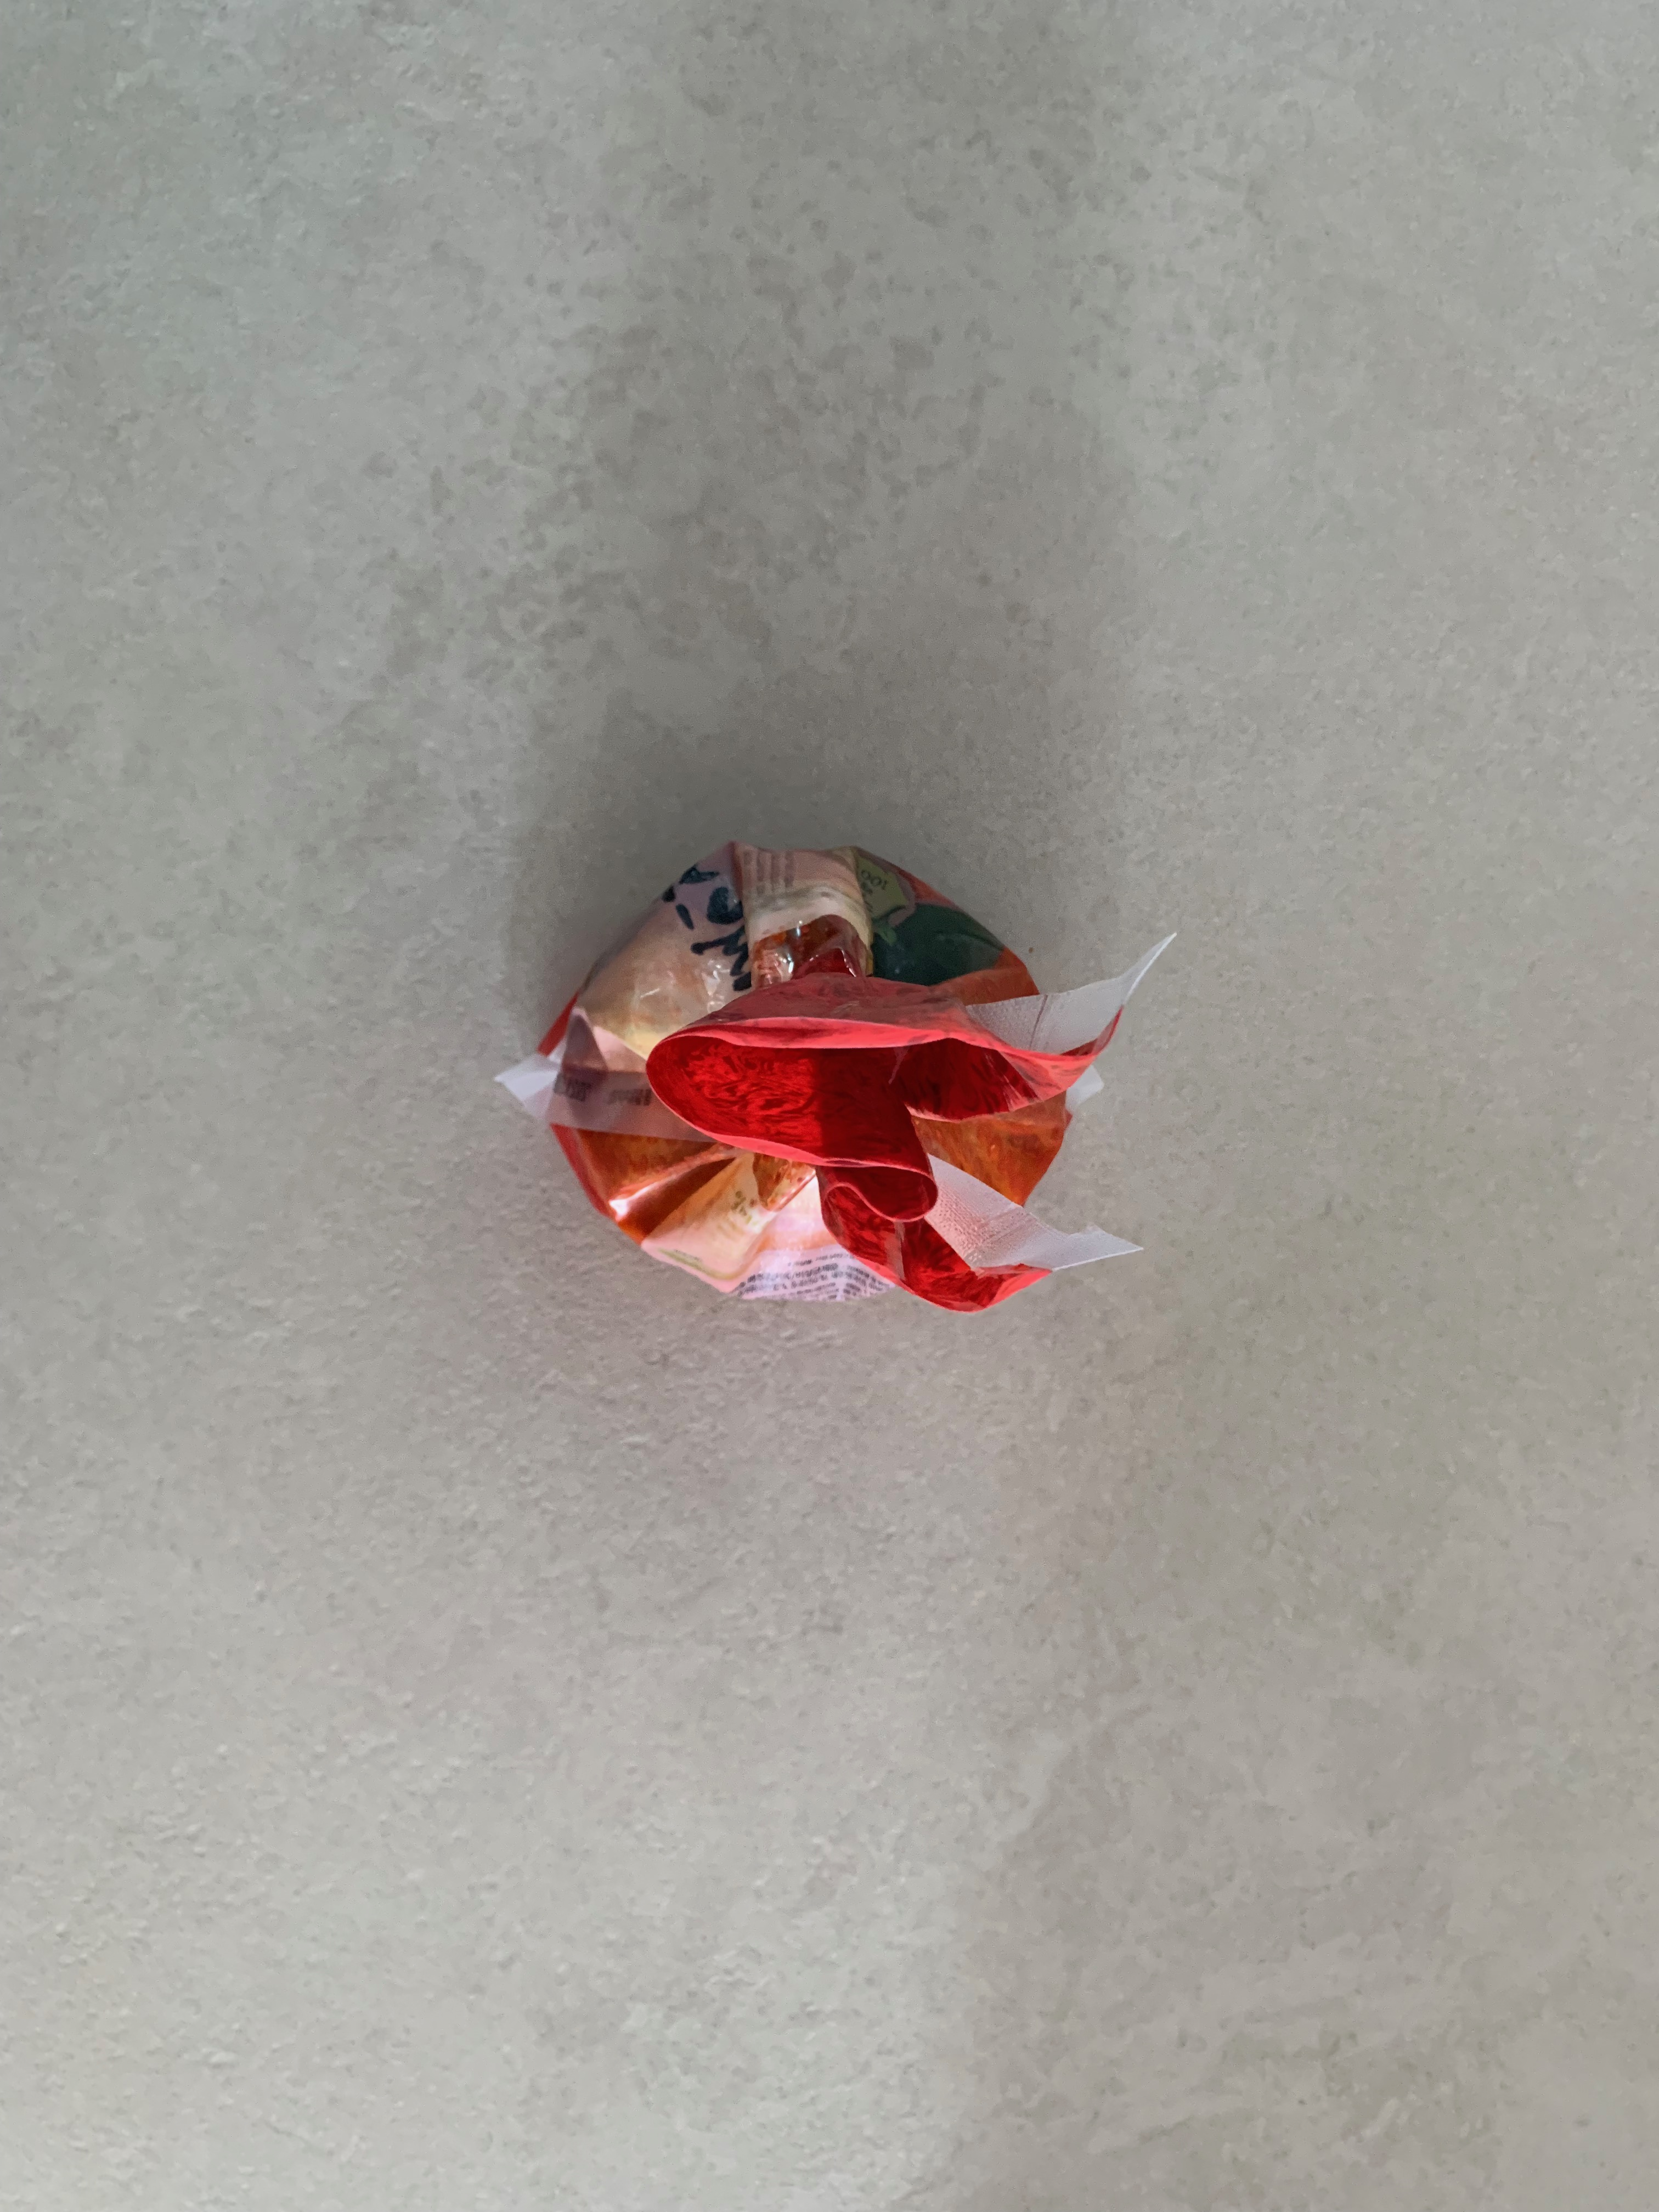kimchi: (538, 843, 1121, 1317)
